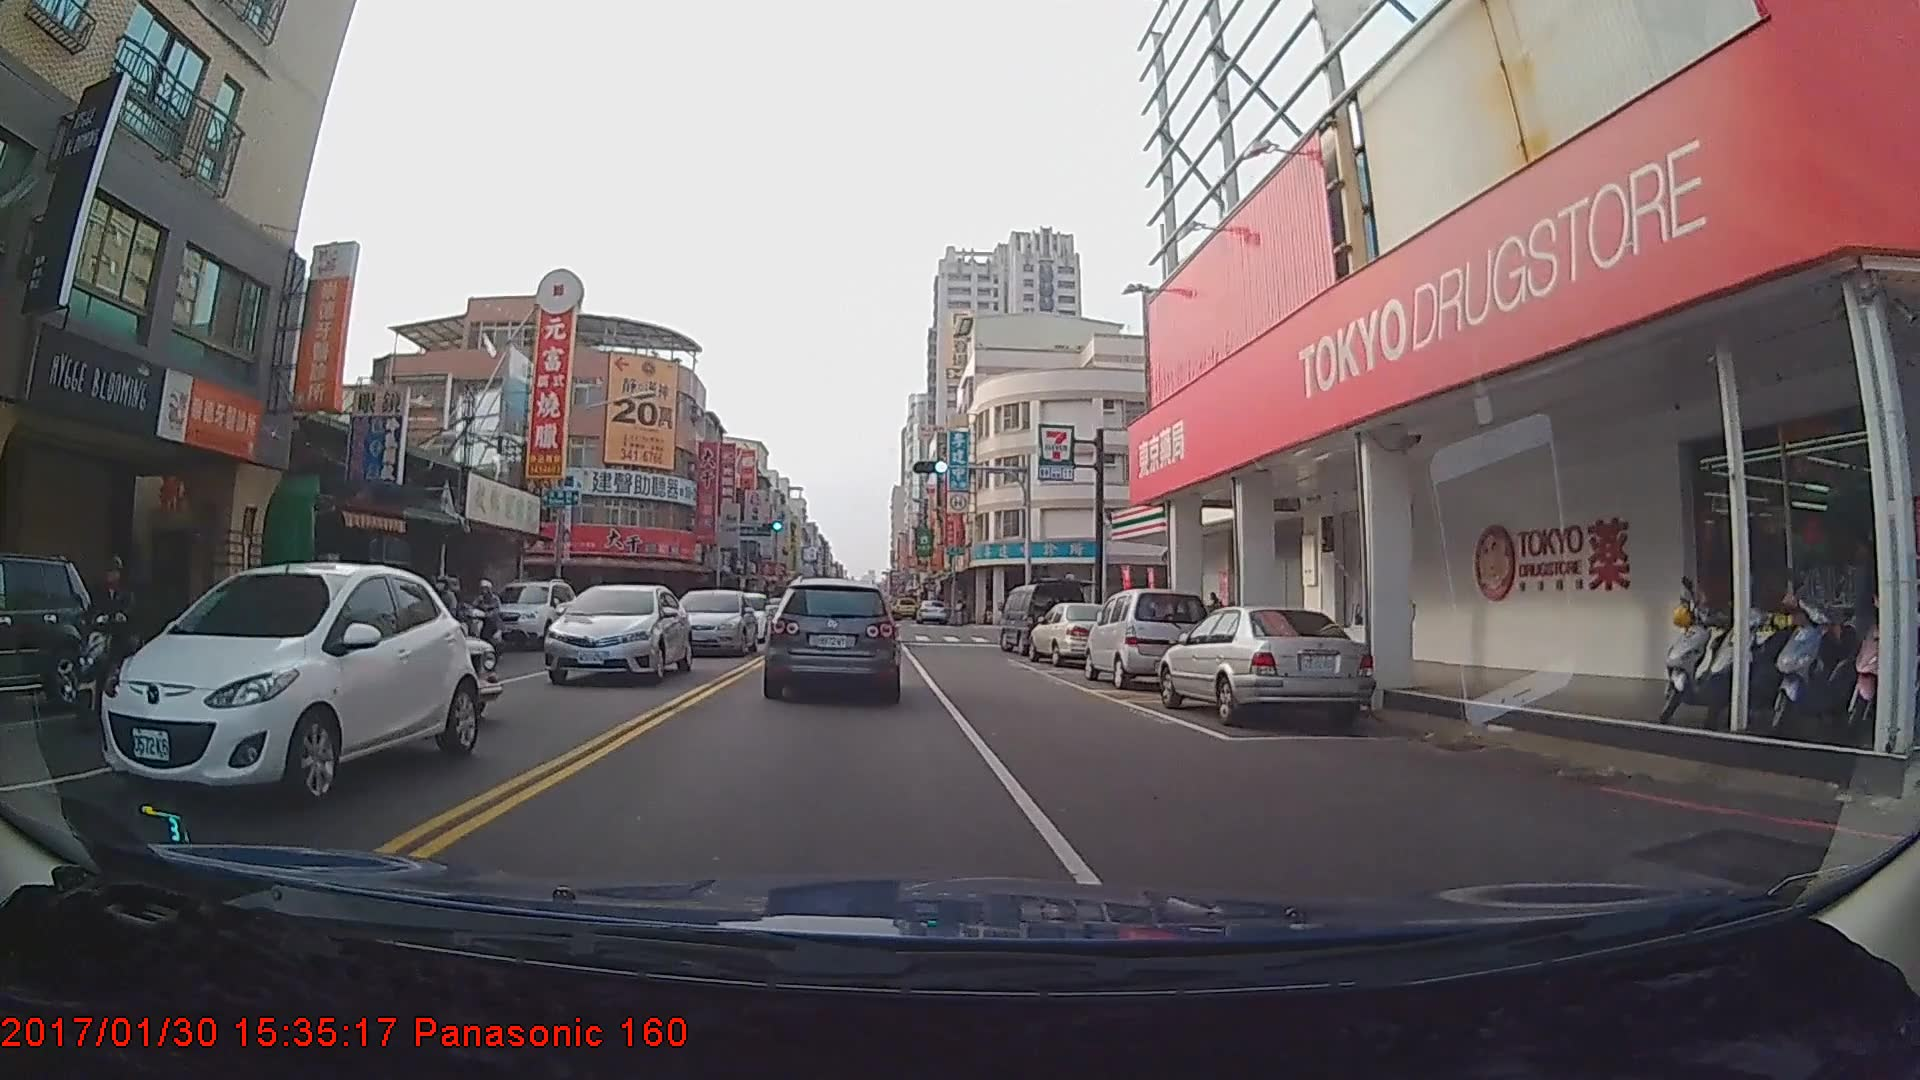rider: (69, 554, 145, 719)
vehicle: (96, 560, 482, 810), (1160, 600, 1374, 730), (769, 579, 897, 700), (539, 583, 684, 687), (1082, 587, 1210, 686), (478, 577, 575, 647), (999, 580, 1086, 657), (1026, 602, 1124, 669), (670, 587, 757, 658), (913, 595, 947, 620)
